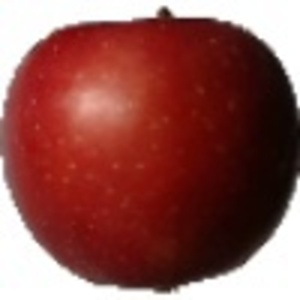maçã braeburn: (1, 10, 300, 293)
